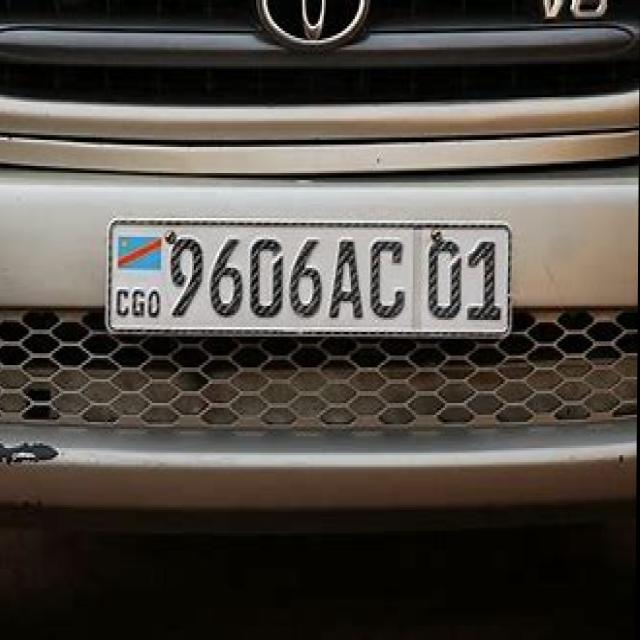Plaque: (109, 218, 512, 336)
